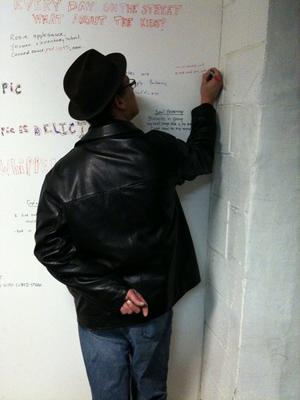person: (34, 49, 224, 398)
